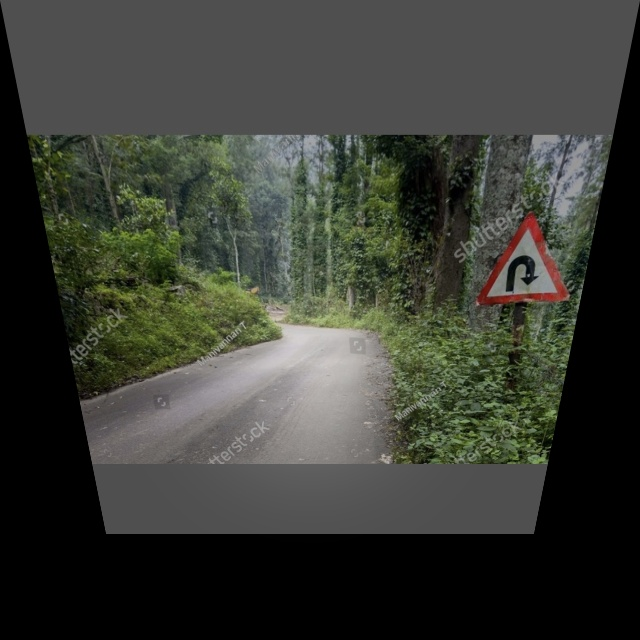Right_Hair_Pin_Bend: (477, 216, 581, 304)
